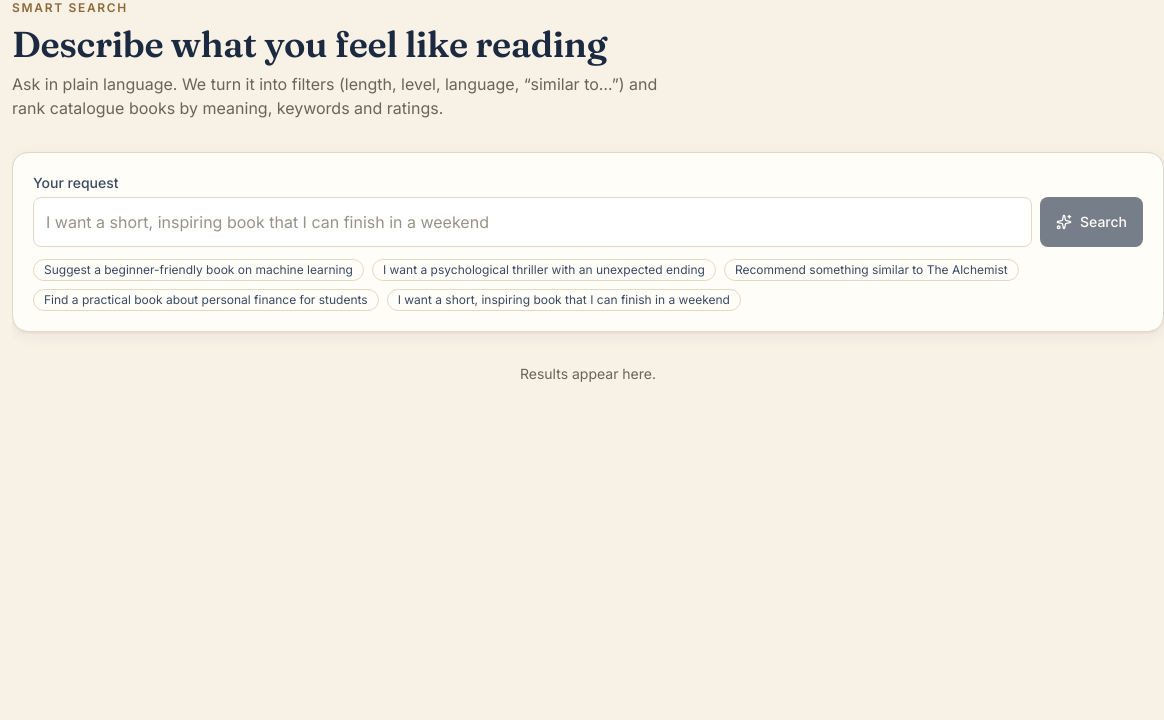
Test case: Books the catalogue does not hold › Smart Search looks up a book name it does not hold
In the field labelled "Your request": (532, 222) [33,197,1032,247], type "Piranesi"
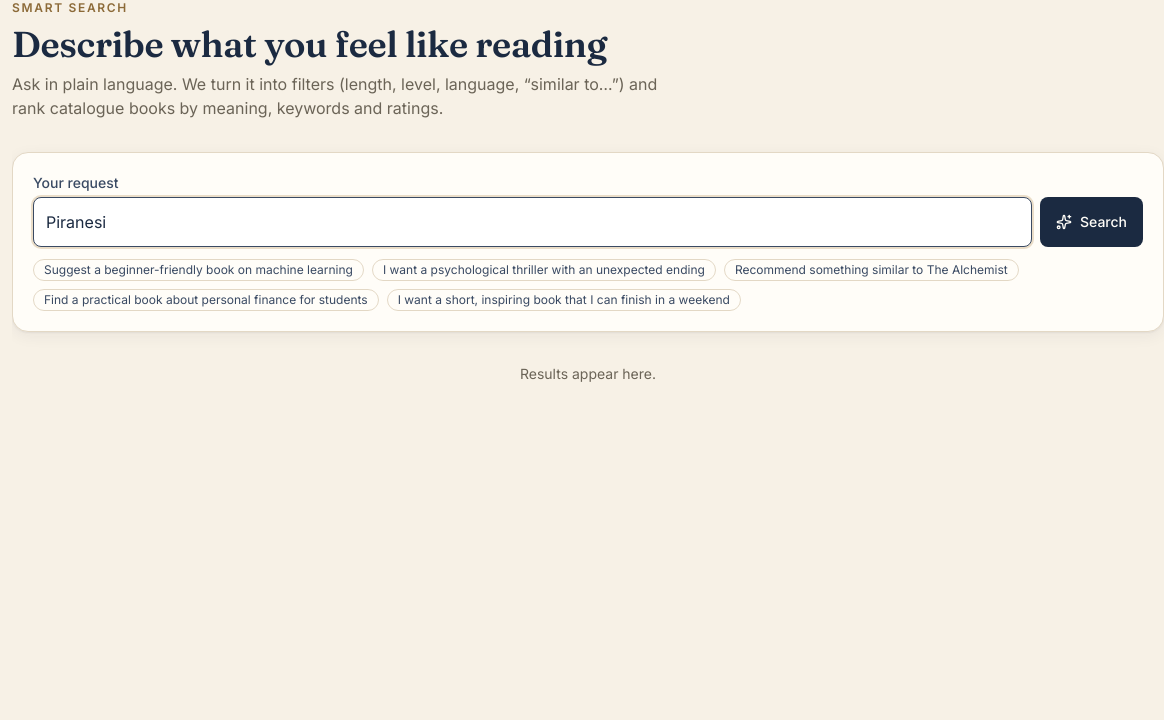
Click the button "Search": (1092, 222) [1040,197,1143,247]
(page scrolled)
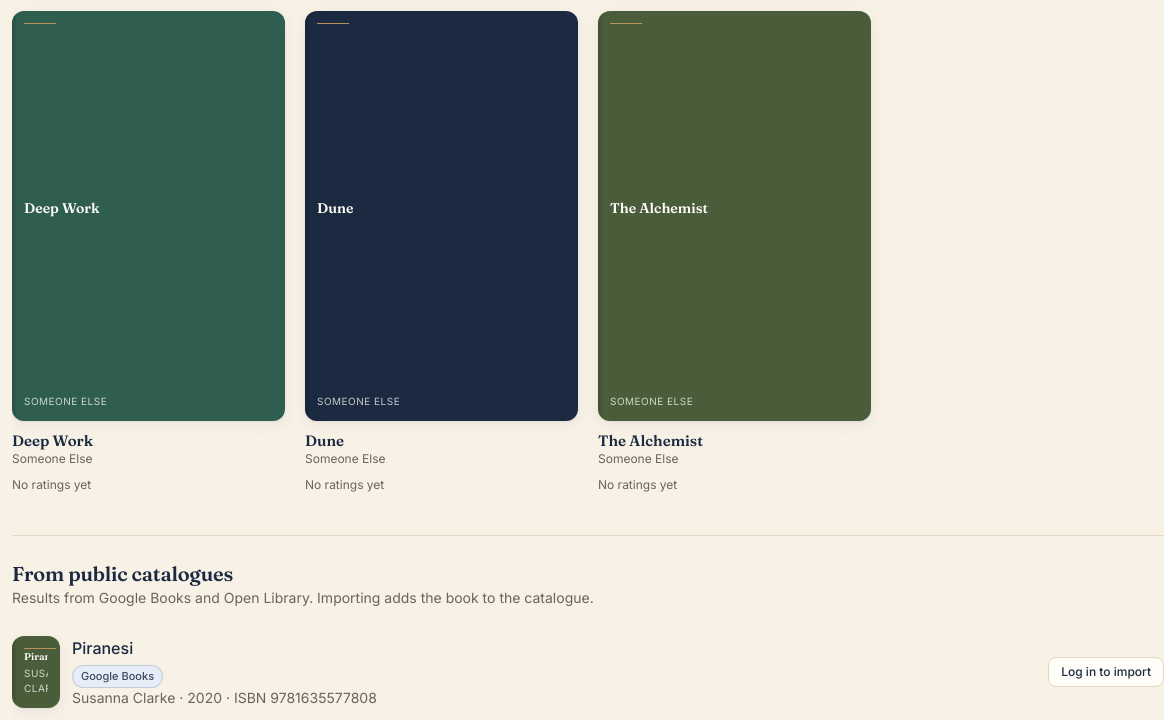
Expected: the text "Google Books" is shown, [72,665,163,688]
